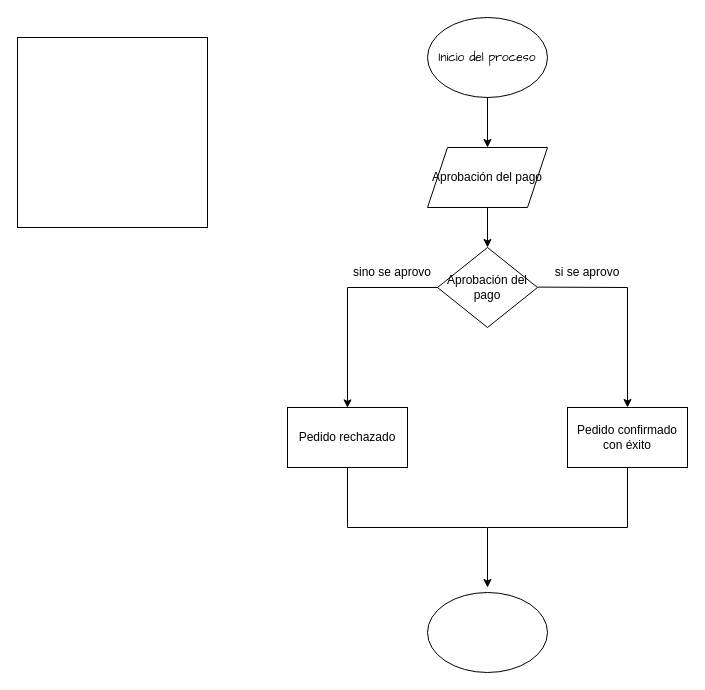
Some shapes in this 705 by 690 pixel diagram are drawn without their labels. The shapes that lost their labels are listed below. From the top down, each one's box as (x1, y1, x2, y2) in pixels, then its label:
(16, 36, 208, 228): Validación de pago
(426, 592, 548, 672): Fin del proceso
